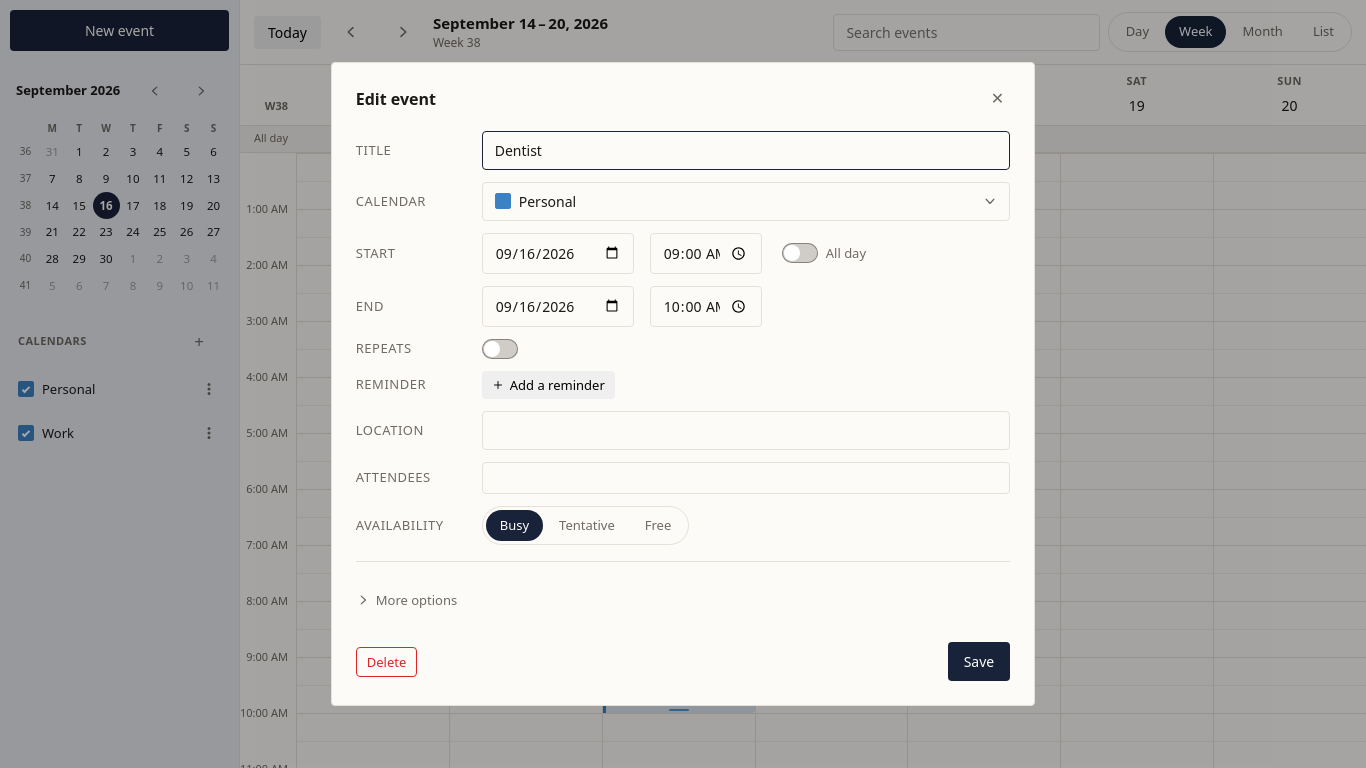
CalendarLayout — deleting and leaving the editor › says a failed reload out loud and keeps the form
The image size is (1366, 768).
Step 1. Type "!" into the field labelled "Title" → x=746, y=150, box [482,131,1010,170]
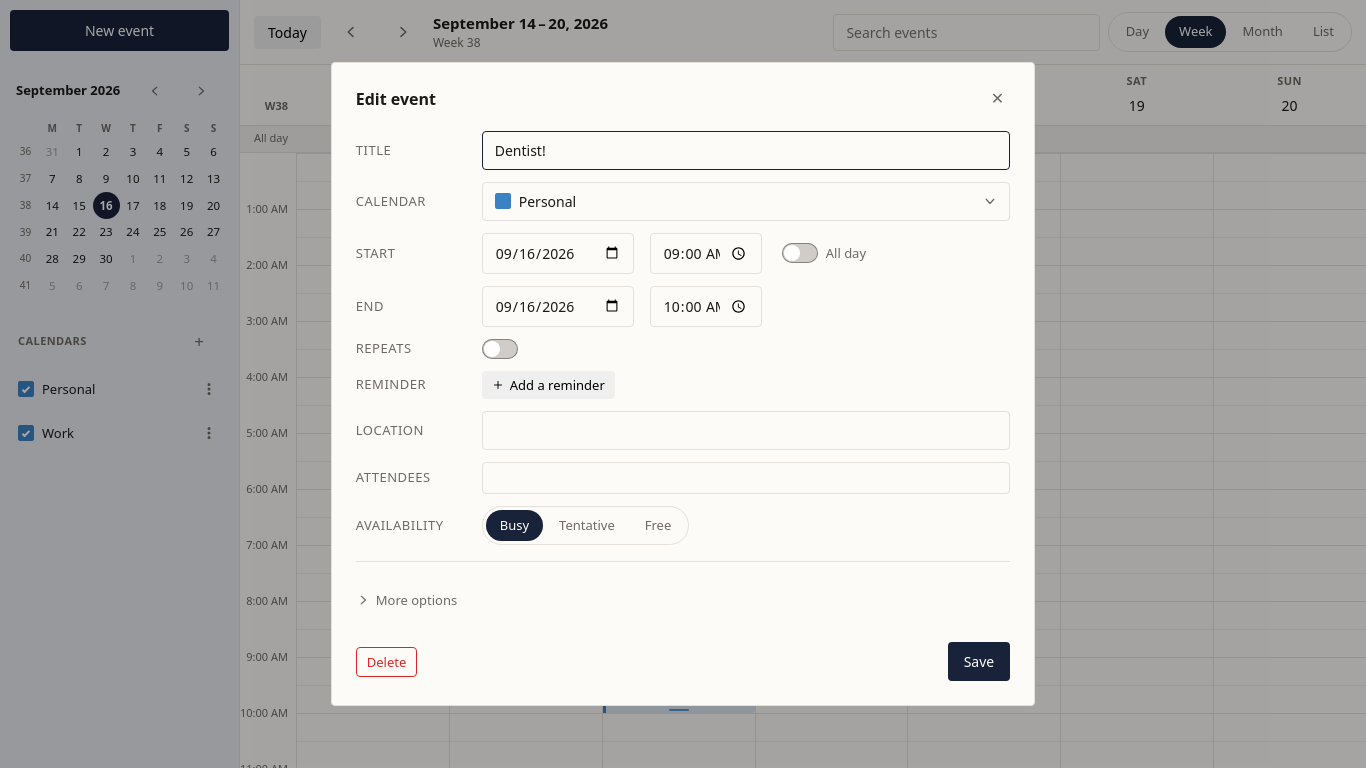
Step 2. Click the button "Save" → x=979, y=662, box [948,642,1010,681]
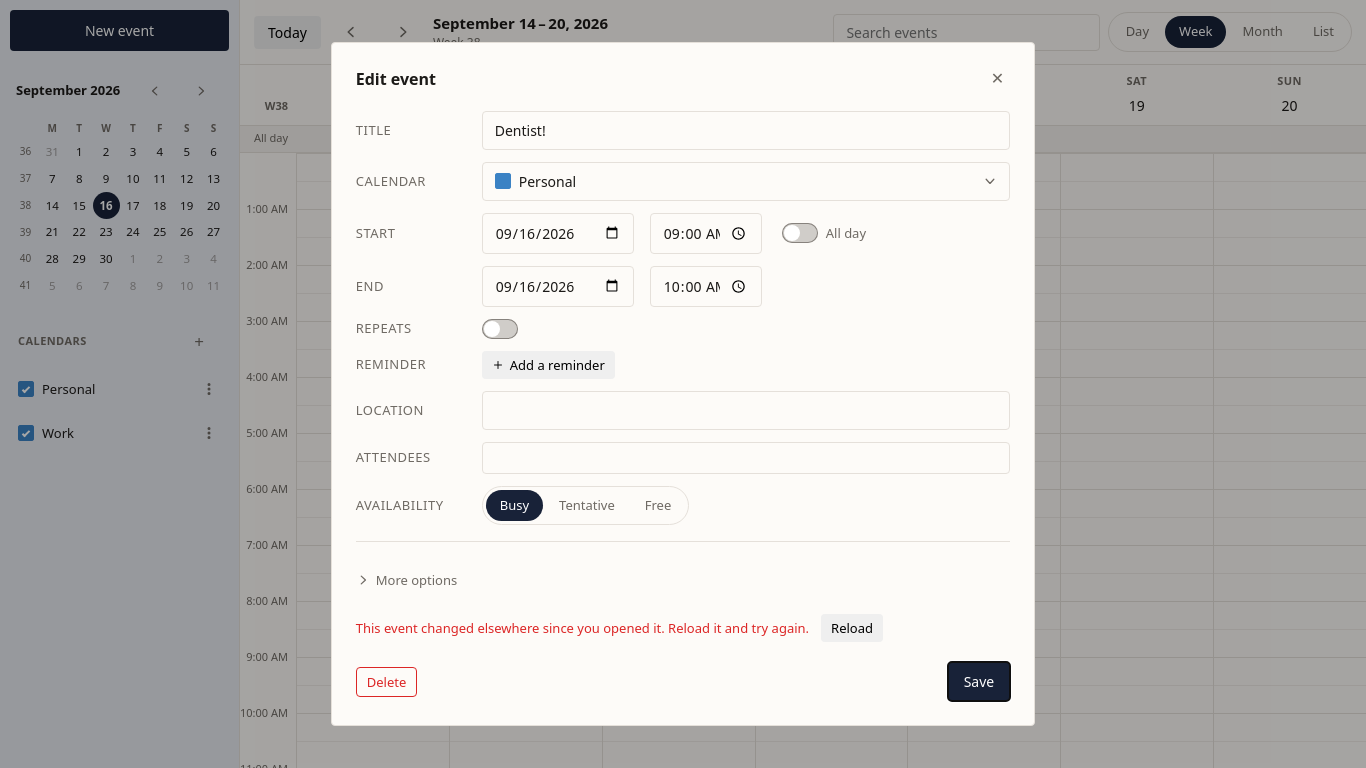
Expected: the text "changed elsewhere" is shown, [356,618,809,636]
Step 3. Click the button "Reload" → x=852, y=628, box [821,614,883,642]
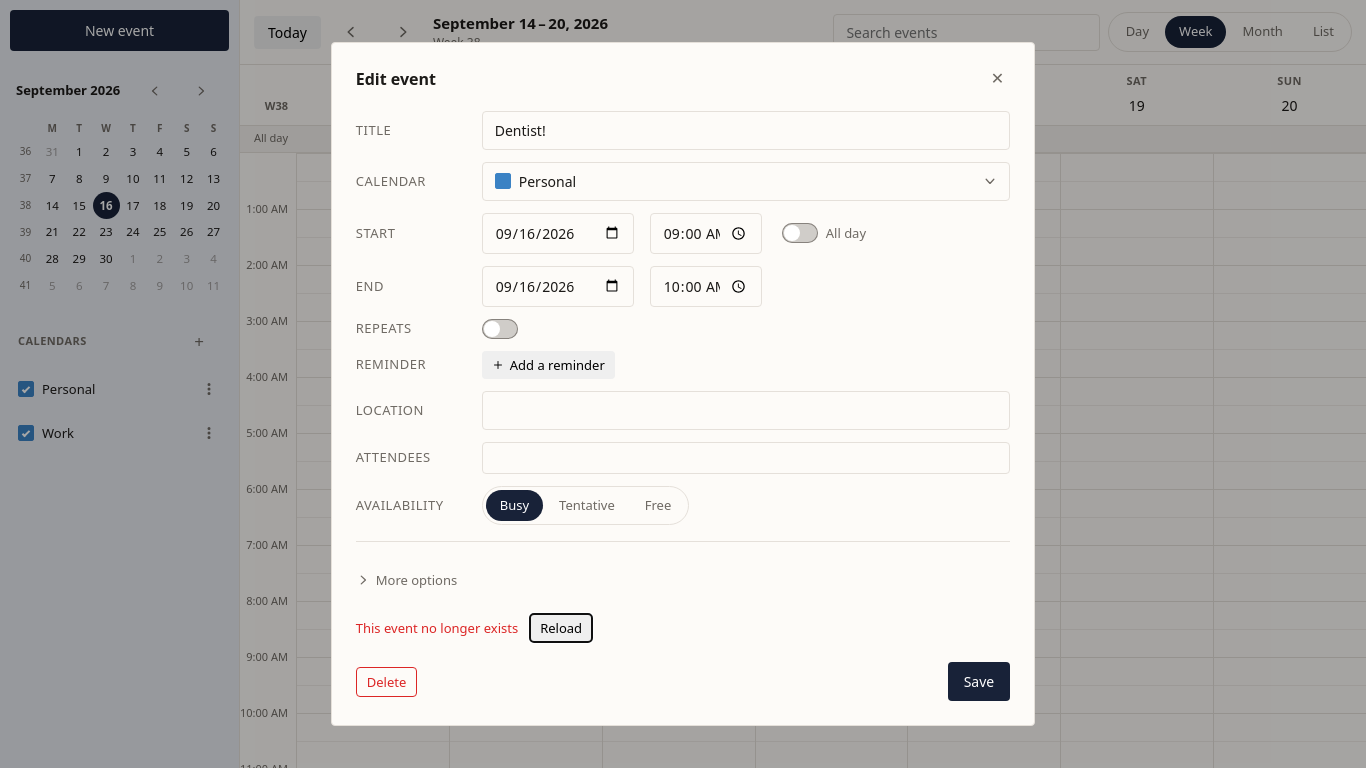
Expected: the field labelled "Title" holds "Dentist!", [482,111,1010,150]
Expected: the text "This event no longer exists" is shown, [356,618,518,636]
